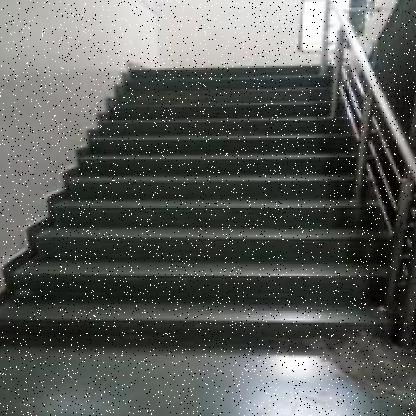stair_up: (0, 196, 365, 362)
